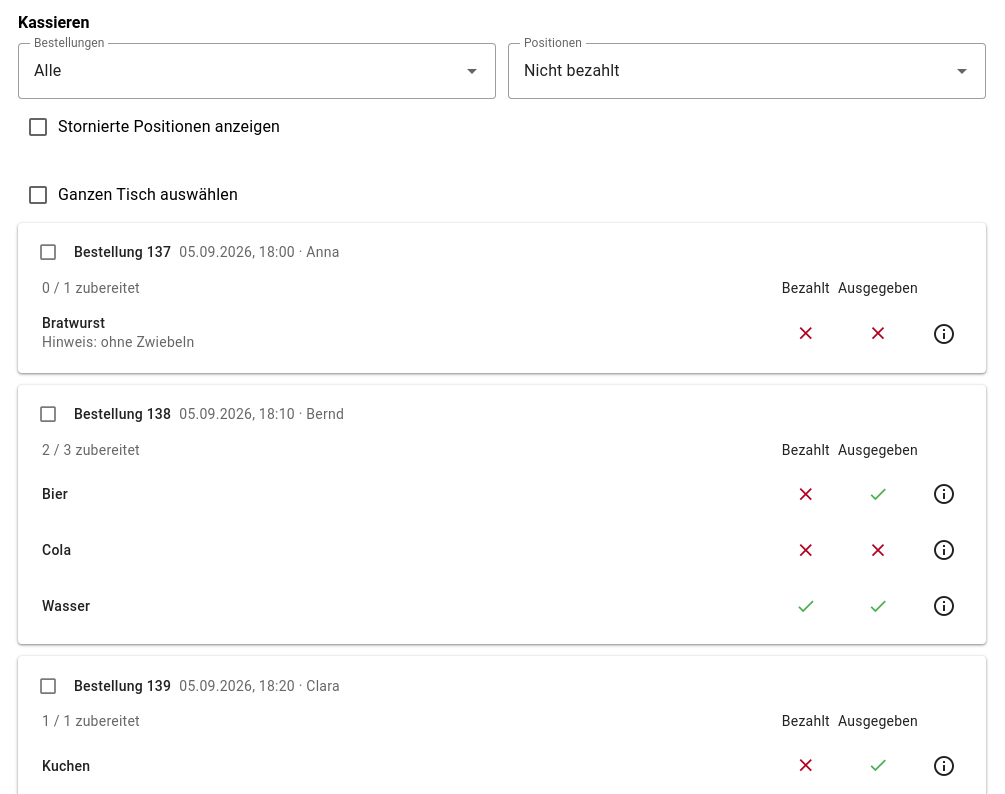
Scenario: ticking what the guests at one table pay for › takes the whole table at once across its orders
This screenshot has width=1005, height=794.
Step 1. Click the 1st checkbox labelled "Ganzen Tisch auswählen" → (148, 194), box [58,185,238,204]
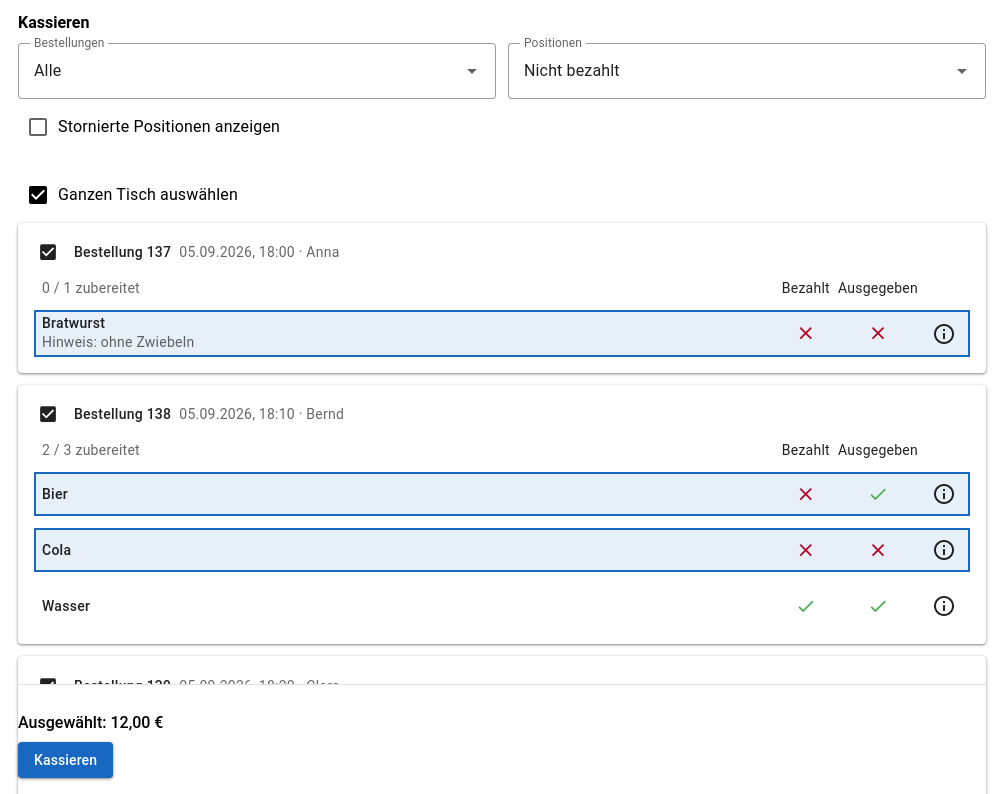
Check: the text with test id "selected-total" reads "Ausgewählt: 12,00 €", box [18,713,163,732]
